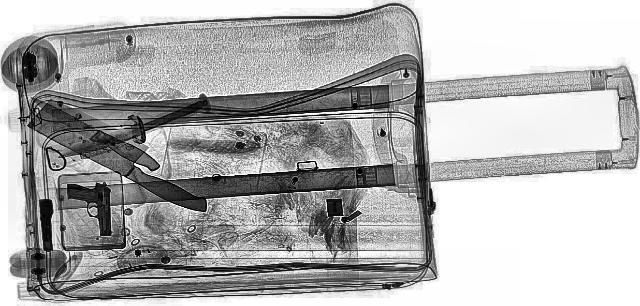Gun: (64, 182, 114, 236), (37, 199, 55, 251)
Knife: (0, 99, 252, 215), (22, 94, 168, 172), (50, 99, 218, 160)
